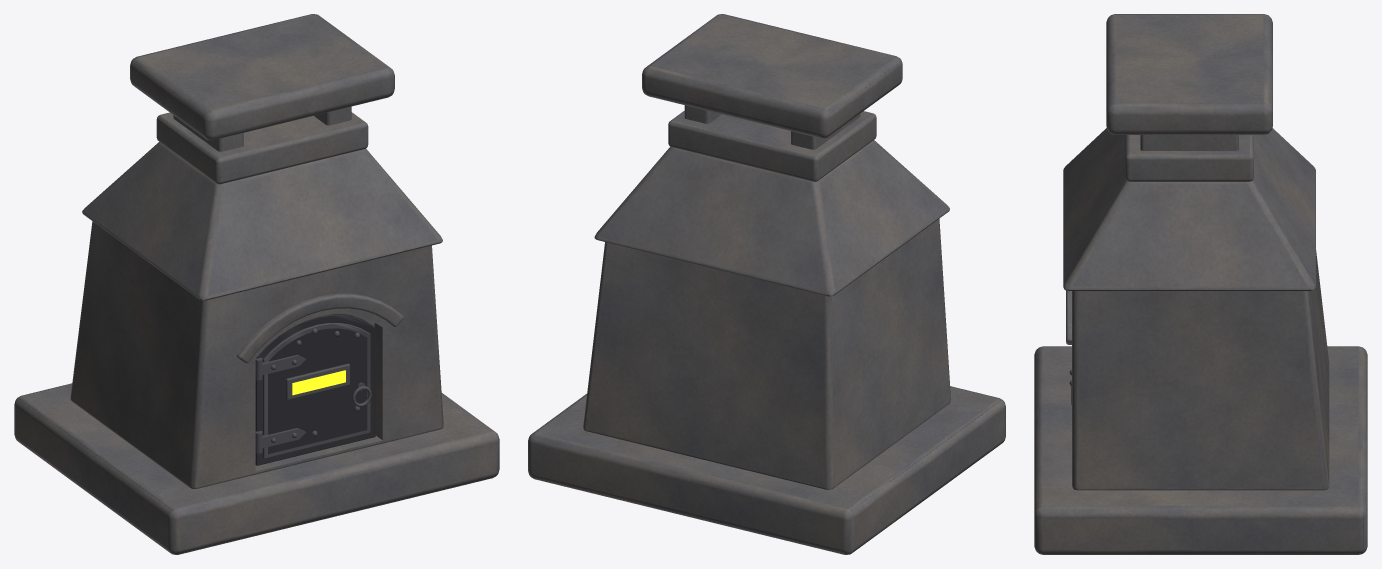
The model's file is FurnaceV2.fbx.
The picture shows the model from 3 angles, left to right: view 1: azimuth 30°, elevation 25°; view 2: azimuth 150°, elevation 25°; view 3: azimuth 270°, elevation 25°; orthographic projection. The views are drawn at different scales.
Visible parts, largest first — view 1: Furnace_Shell, Furnace_Door; view 2: Furnace_Shell; view 3: Furnace_Shell.
Part boxes in pixels (bbox=[...]): Furnace_Shell: bbox=[14, 14, 499, 554]; Furnace_Door: bbox=[255, 314, 375, 465]; Furnace_Shell: bbox=[528, 14, 1005, 554]; Furnace_Shell: bbox=[1034, 14, 1367, 554].
Size of the model in its own units: 5.2 by 6.05 by 4.4.
4 materials, 1 textured.
